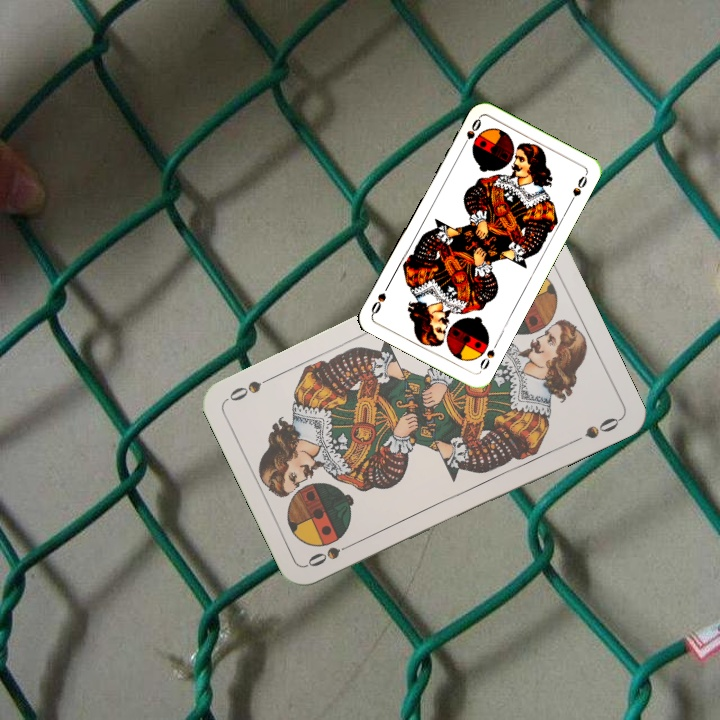SO: (303, 537, 360, 570), (458, 114, 484, 151), (476, 337, 501, 375)
